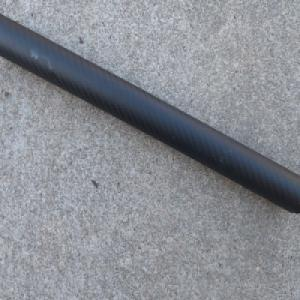LuggagePart: (0, 11, 300, 216)
